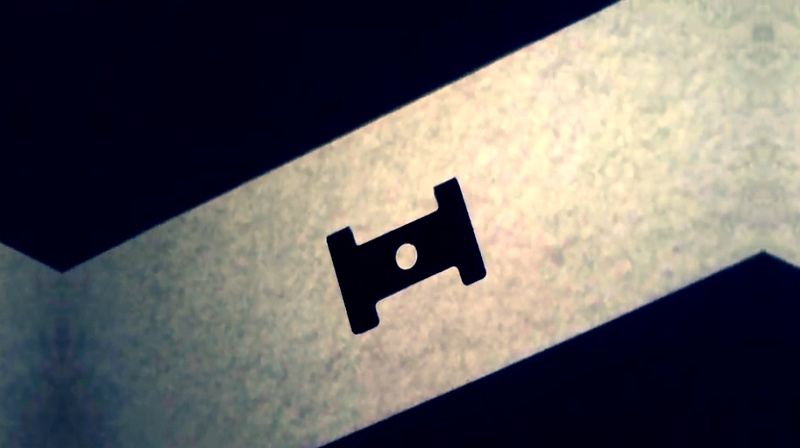O002: (325, 175, 489, 336)
